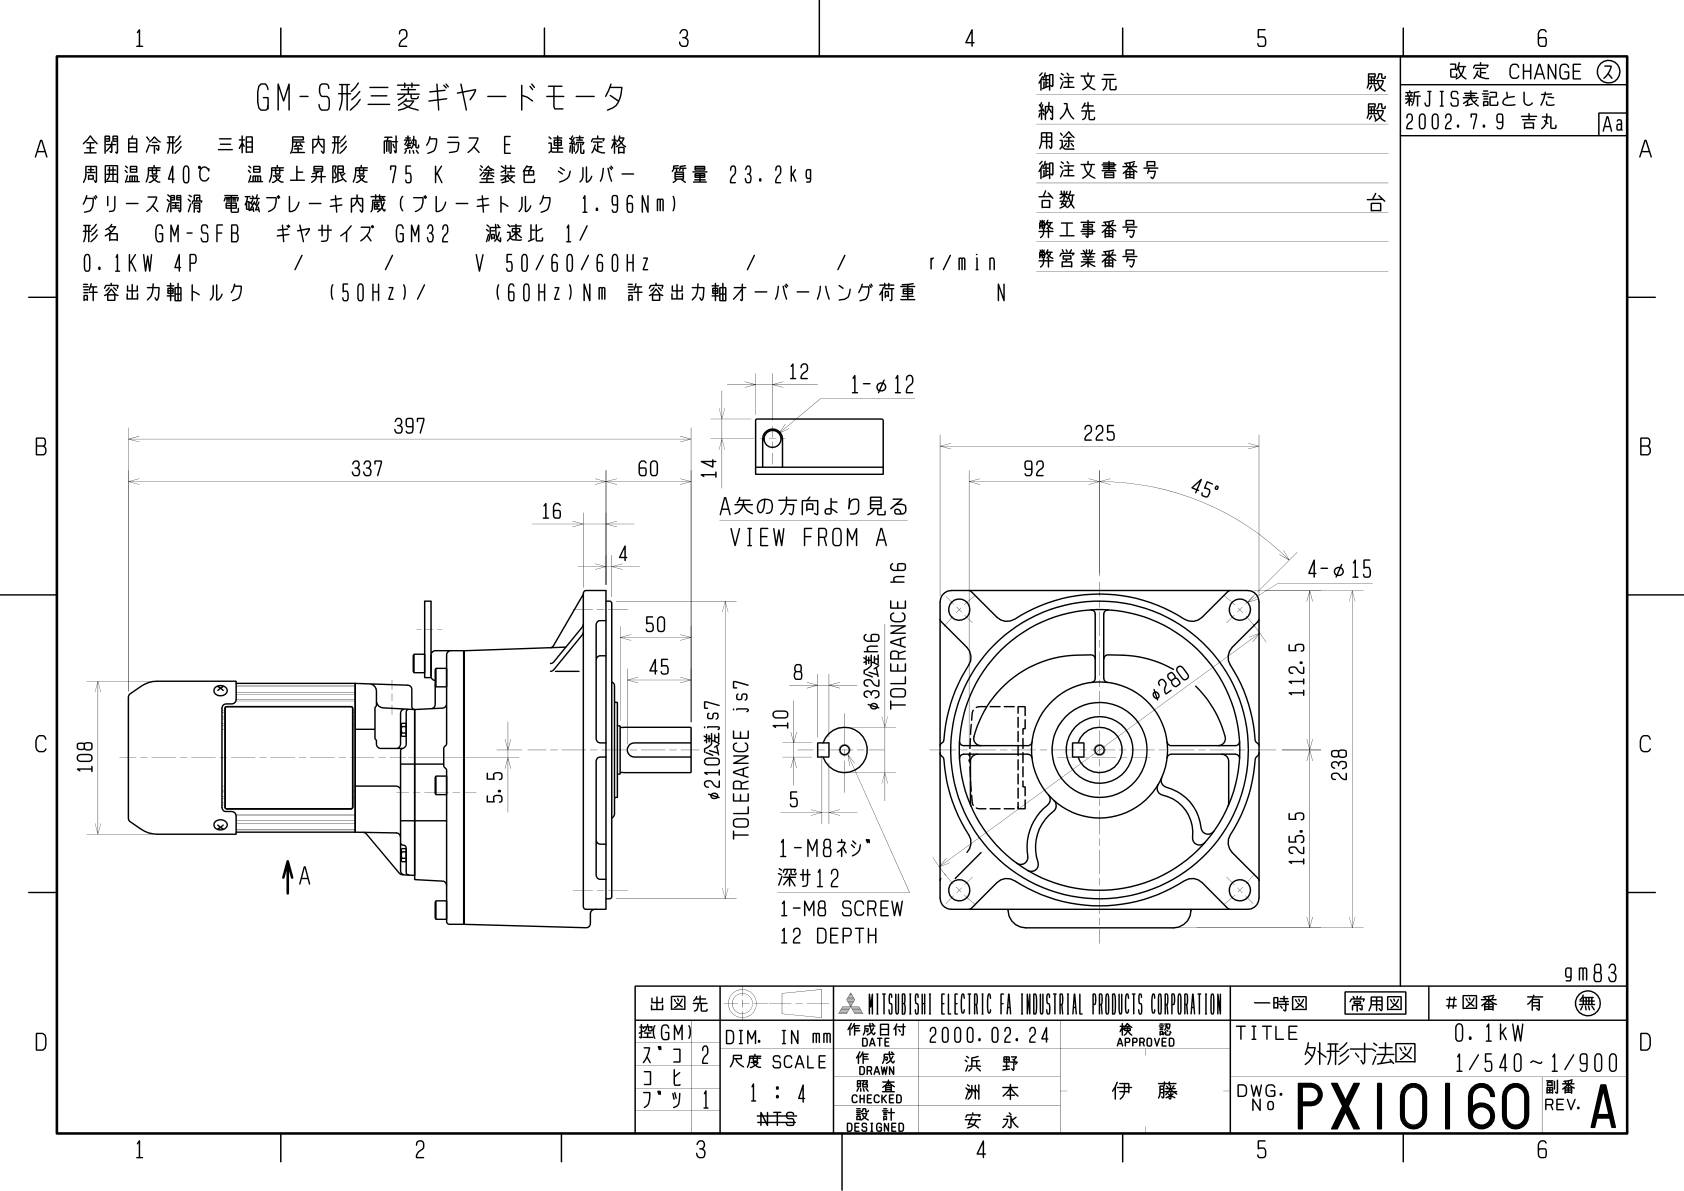GM_S_屋内＿三相_フランジ: (15, 5, 1684, 1191)
